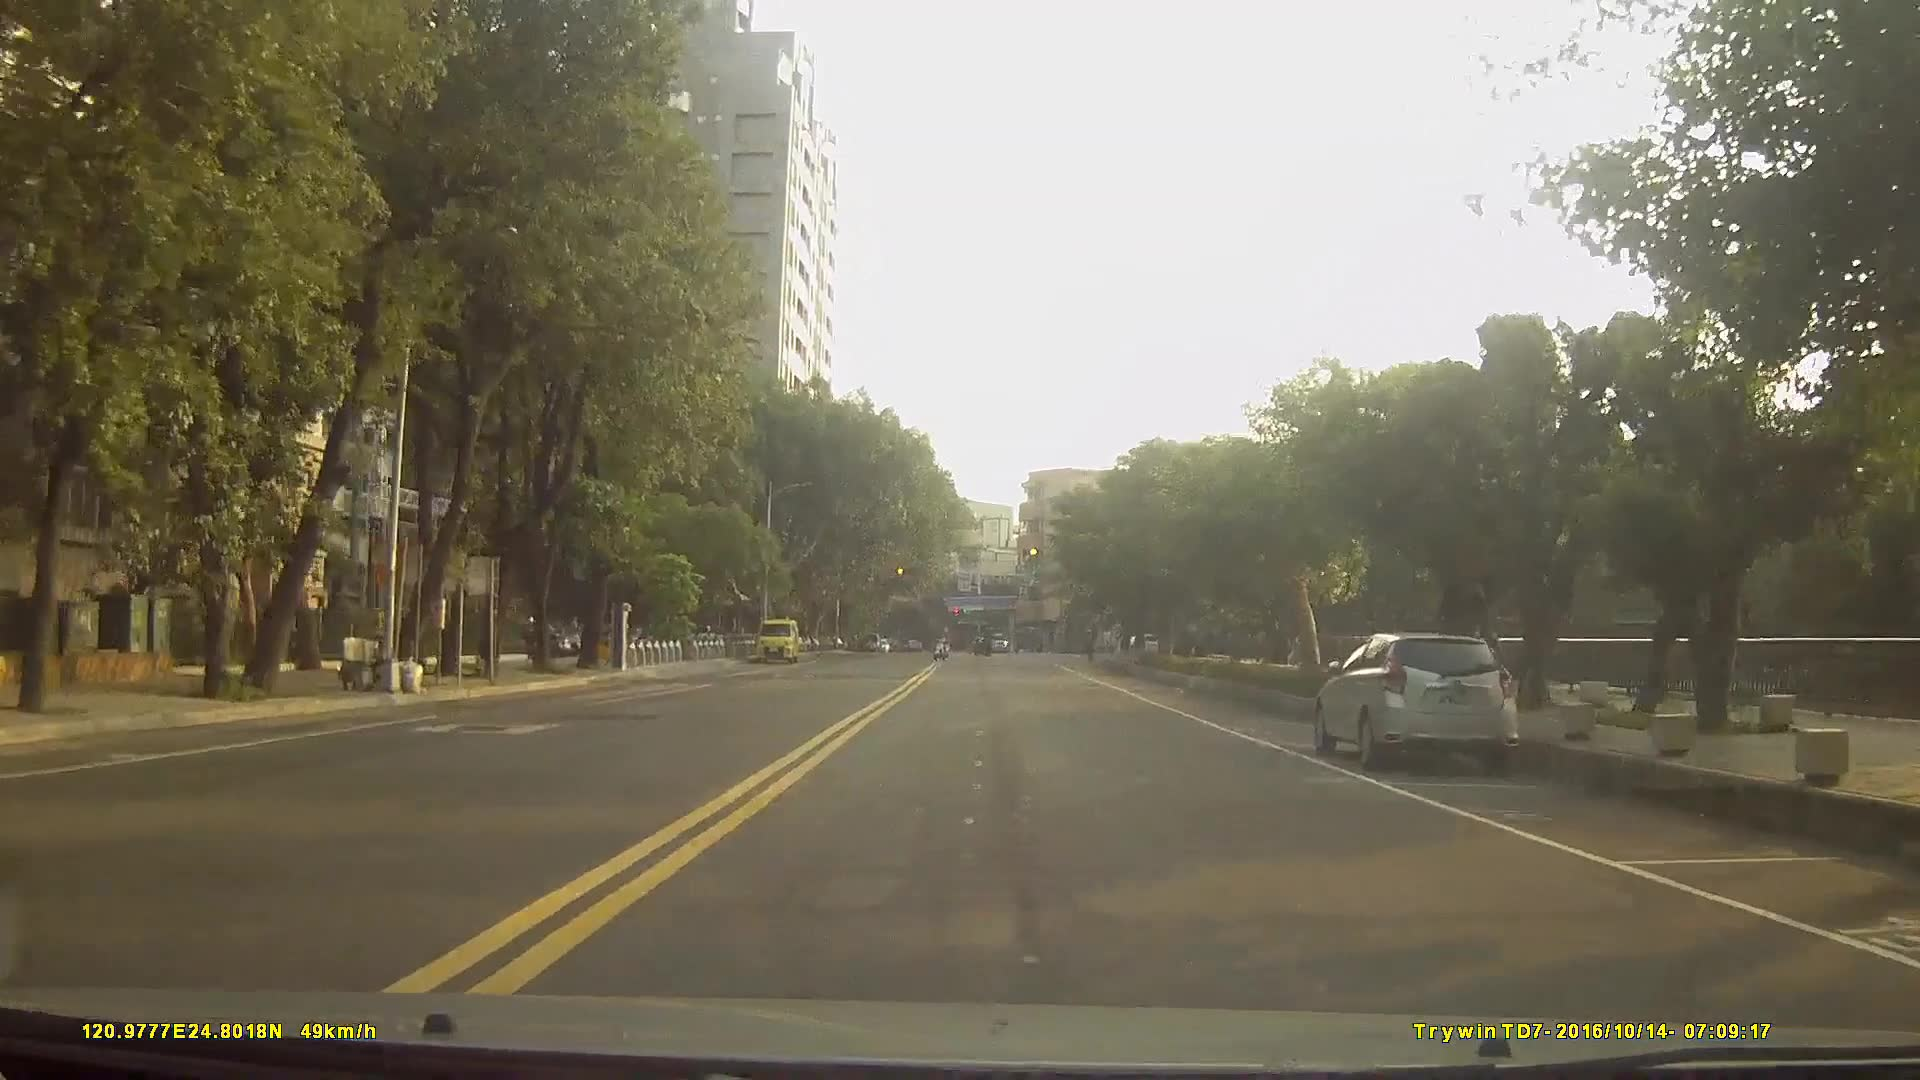rider: (933, 624, 955, 660), (973, 628, 994, 657)
vehicle: (1309, 629, 1523, 778), (983, 630, 1010, 655)
